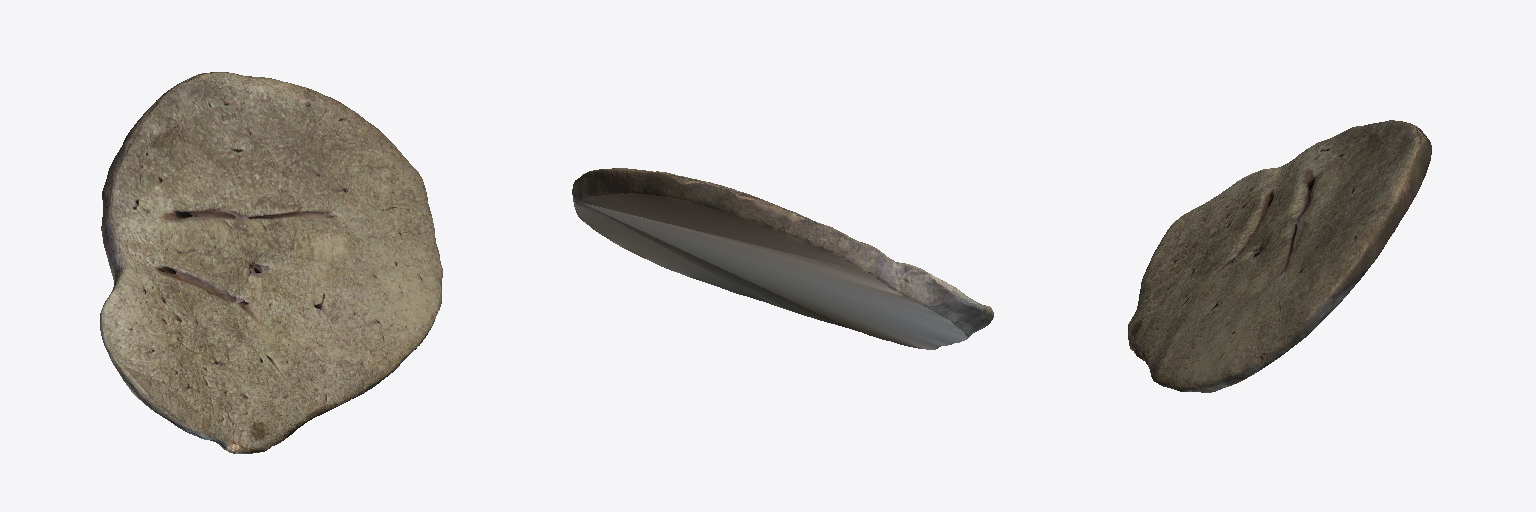
3 renders of one model, left to right at view 1: azimuth 30°, elevation 25°; view 2: azimuth 150°, elevation 25°; view 3: azimuth 270°, elevation 25°, orthographic.
Visible parts, largest first — view 1: model_mesh.001; view 2: model_mesh.001; view 3: model_mesh.001.
Boxes of the visible parts, x1=… form: model_mesh.001: x1=100, y1=72, x2=442, y2=453; model_mesh.001: x1=572, y1=168, x2=993, y2=349; model_mesh.001: x1=1128, y1=120, x2=1431, y2=392.
Size of the model in its own units: 0.241 by 0.1617 by 0.1762.
Materials: 1 (1 with a texture image).